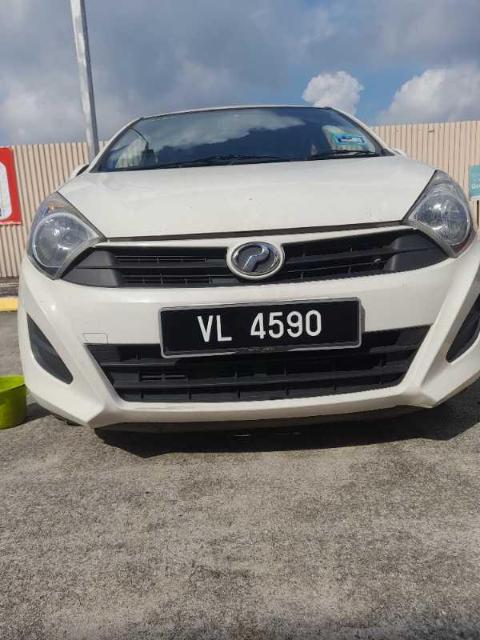License_Plate: (159, 297, 364, 359)
car: (18, 105, 480, 434)
